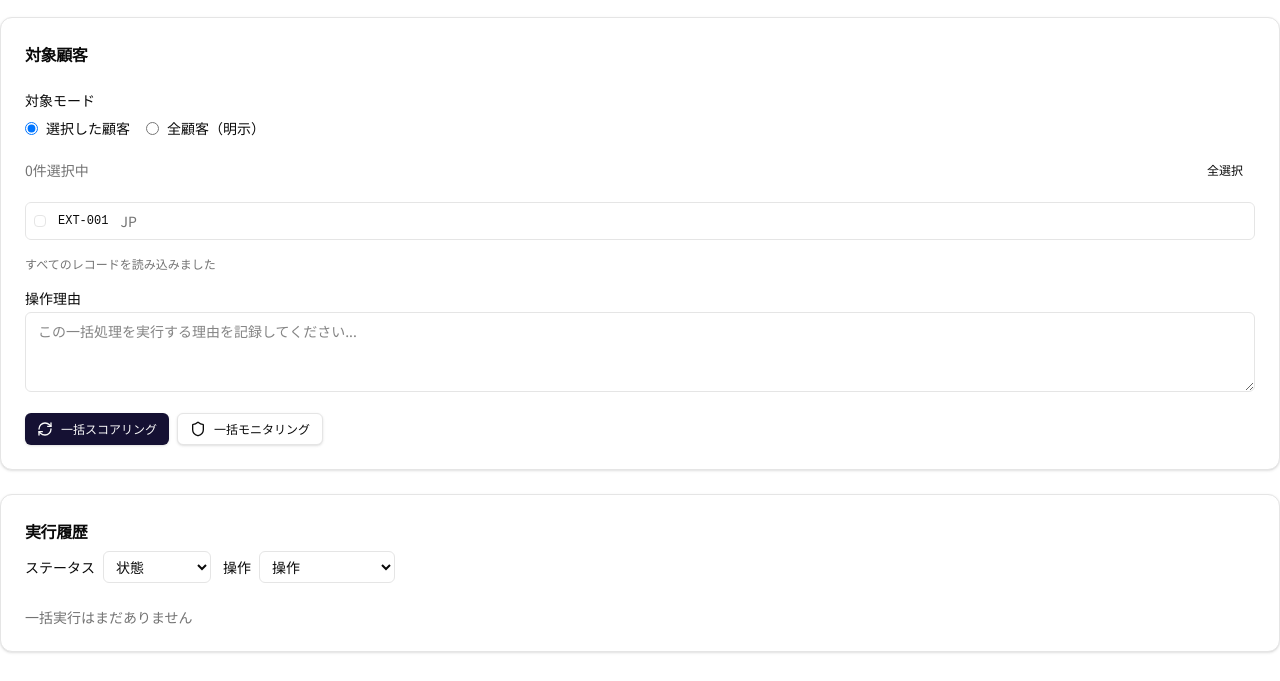
Test case: marks queued PENDING_REVIEW results as requiring operator review
Click the text "EXT-001" at (83, 221), box left=58, top=213, right=108, bottom=229
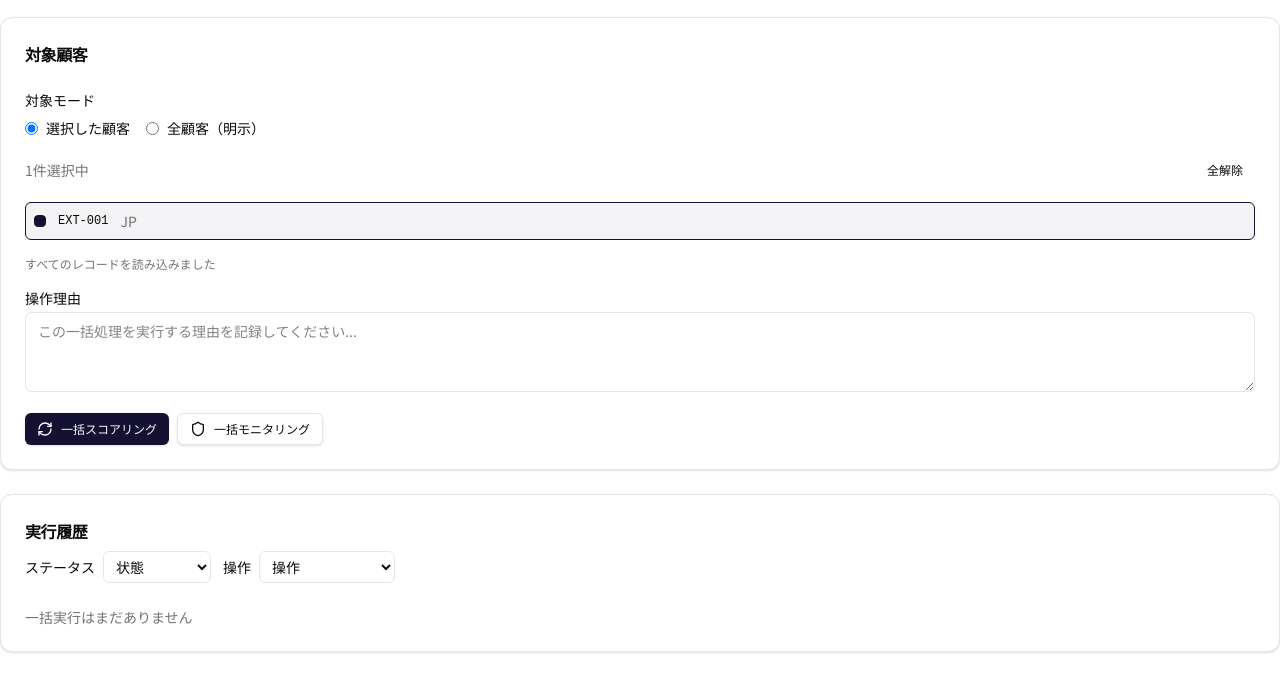
Type "recover monitor queue" into the text box labelled "操作理由" at (640, 352), box left=25, top=312, right=1255, bottom=392
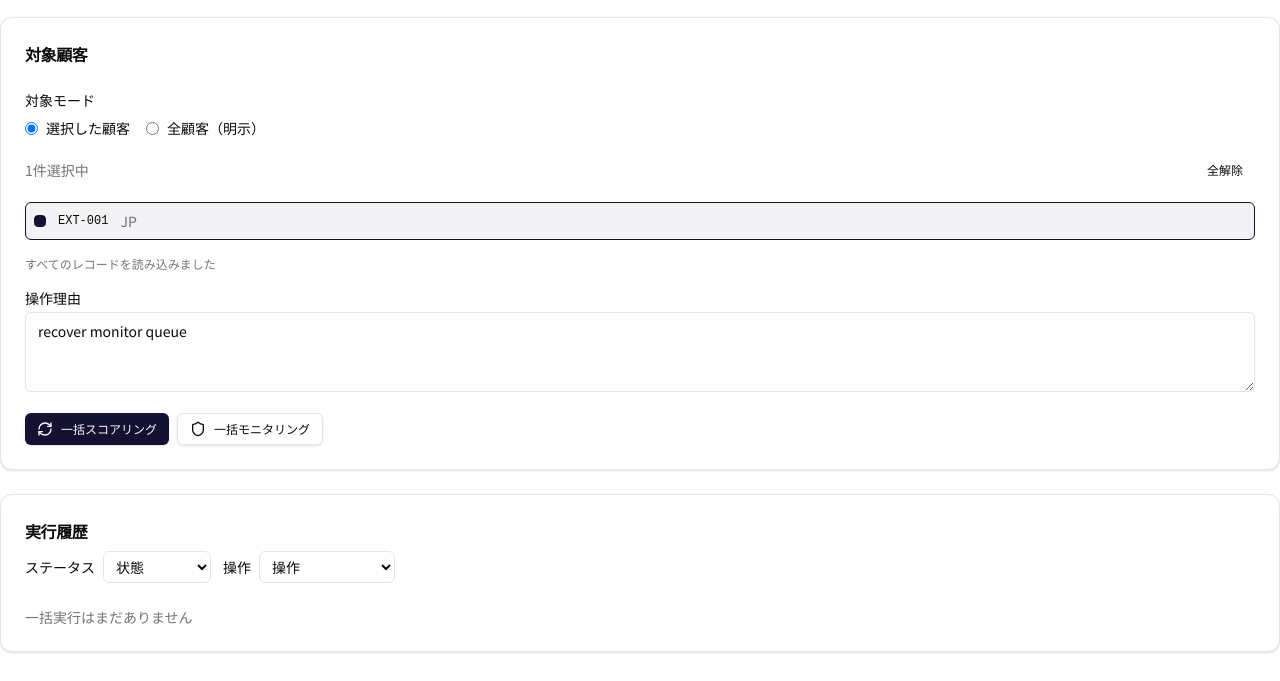
Click the button "一括モニタリング" at (250, 429), box left=177, top=413, right=323, bottom=445
(page scrolled)
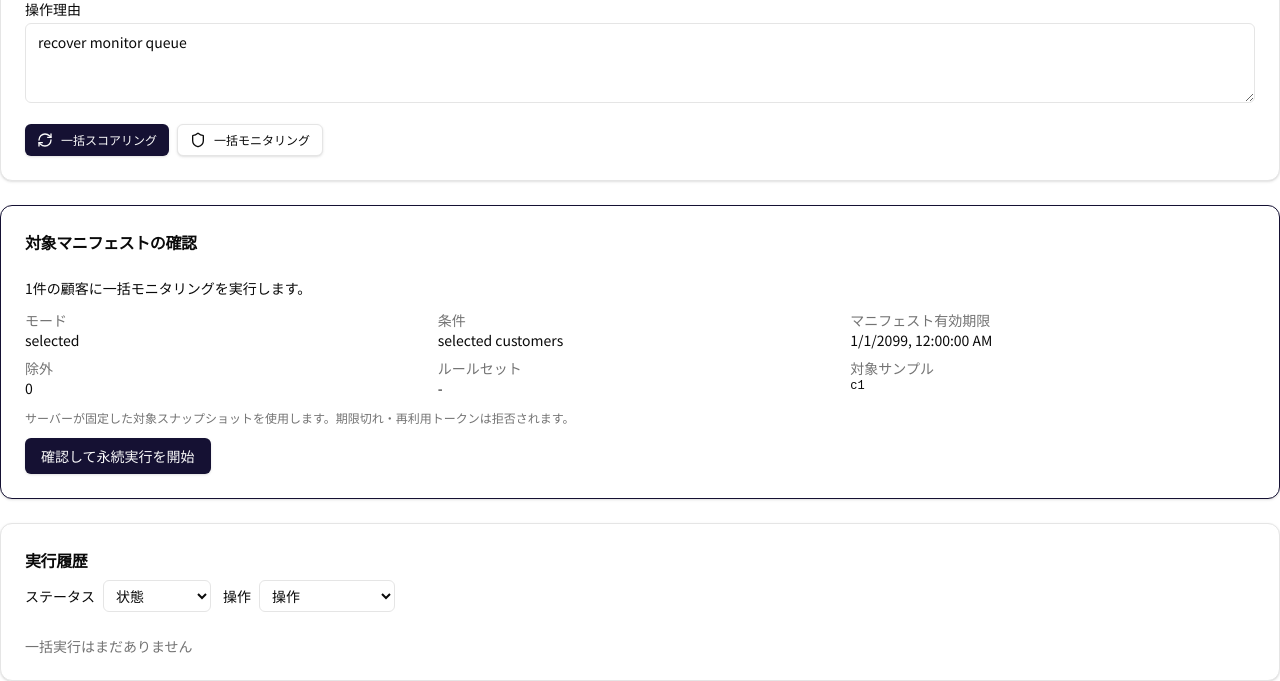
Now the text "対象マニフェストの確認" is shown, box left=25, top=230, right=197, bottom=254
Click the button "確認して永続実行を開始" at (118, 456), box left=25, top=438, right=211, bottom=474
(page scrolled)
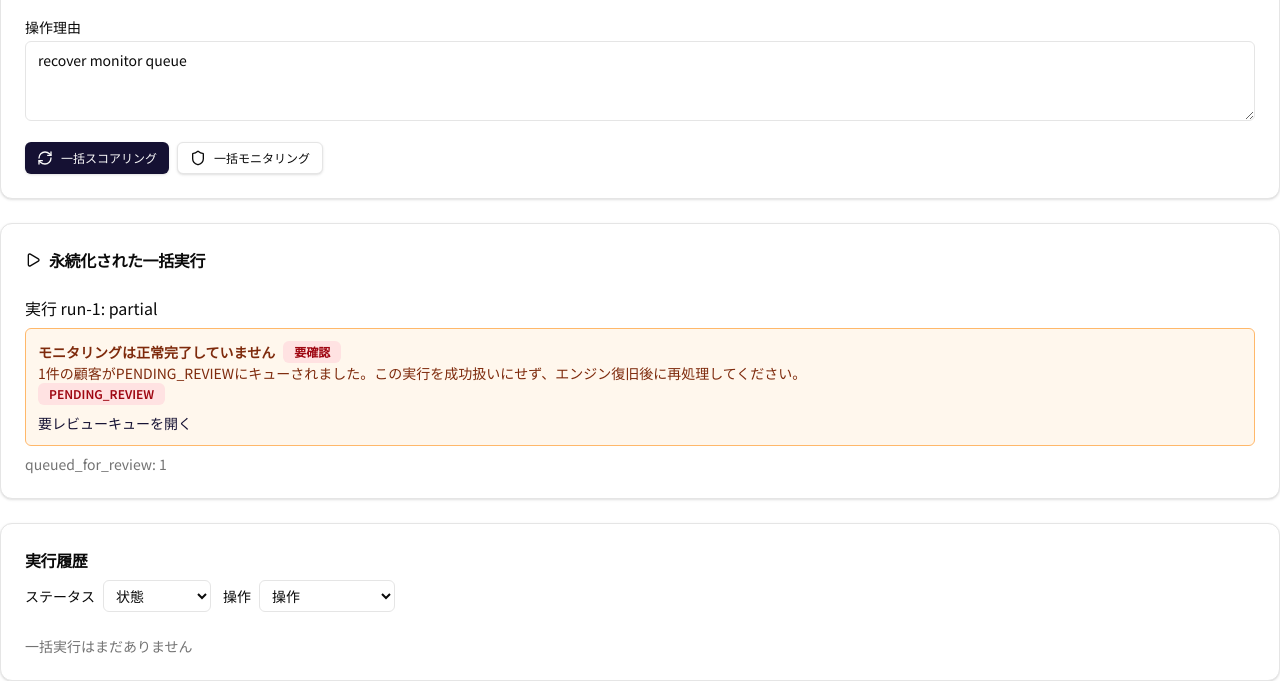
Now the message that starts with "モニタリングは正常完了していません" is shown, box left=25, top=328, right=1255, bottom=446
Now the text "要確認" is shown, box left=283, top=341, right=341, bottom=363
Now the text "PENDING_REVIEW" is shown, box left=38, top=383, right=165, bottom=405
